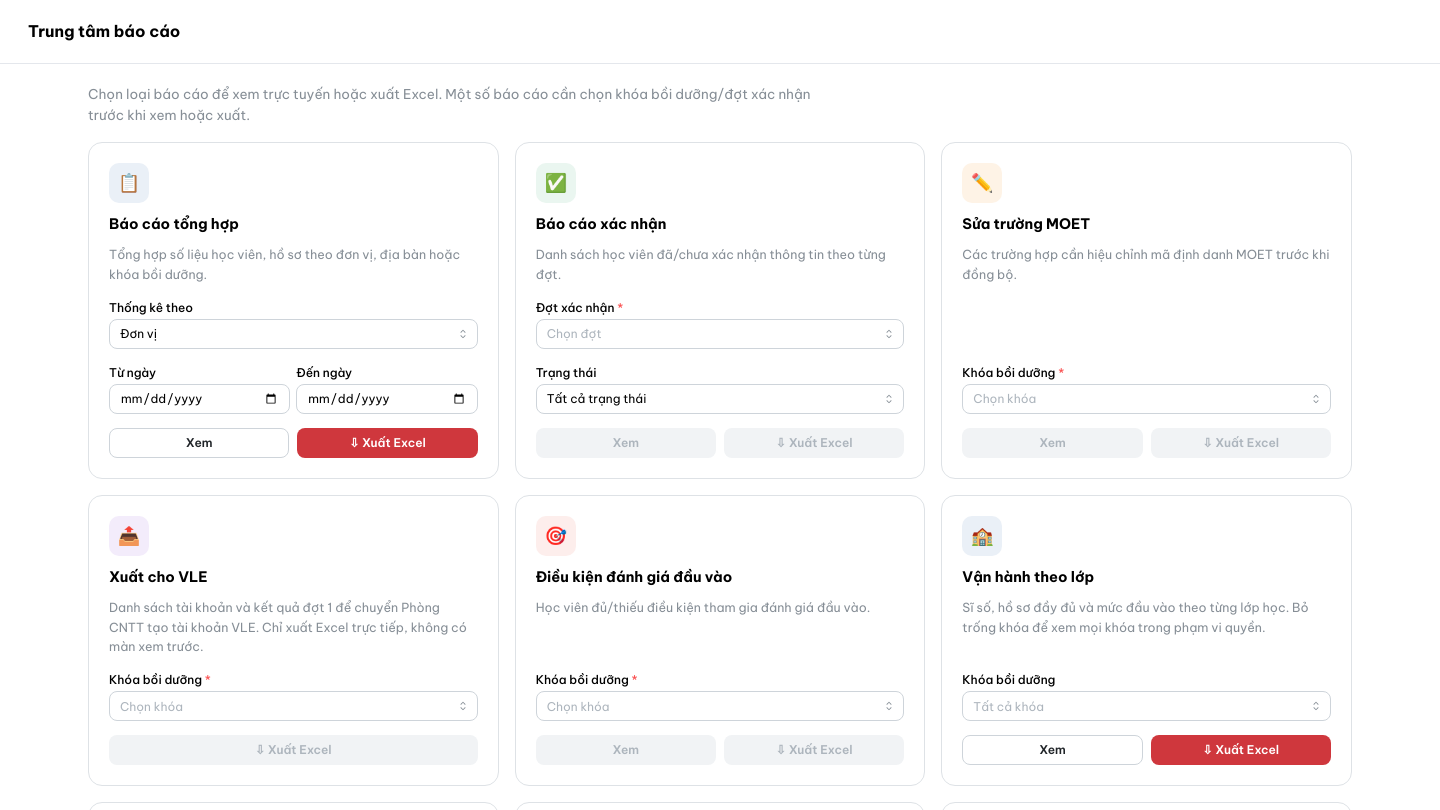
Test: Admin — Trung tâm báo cáo › báo cáo tổng hợp: không cần chọn tham số bắt buộc, Xem hiện đúng dữ liệu thật trả về
Click the button "Xem" below "Thống kê theo" at [199, 443], box x1=109 y1=428 x2=289 y2=458
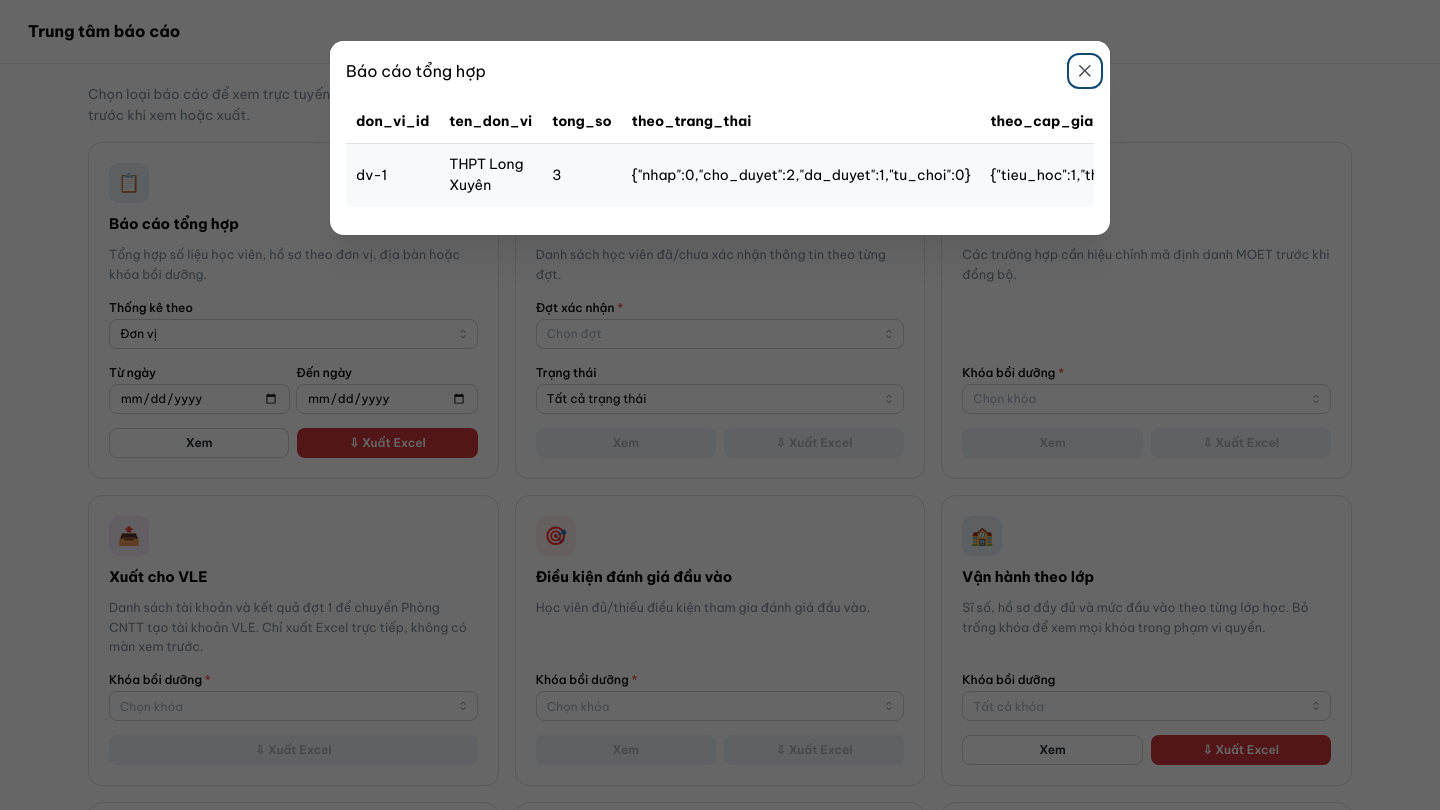
Expected: the text "THPT Long Xuyên" is shown, x1=439 y1=143 x2=542 y2=207
